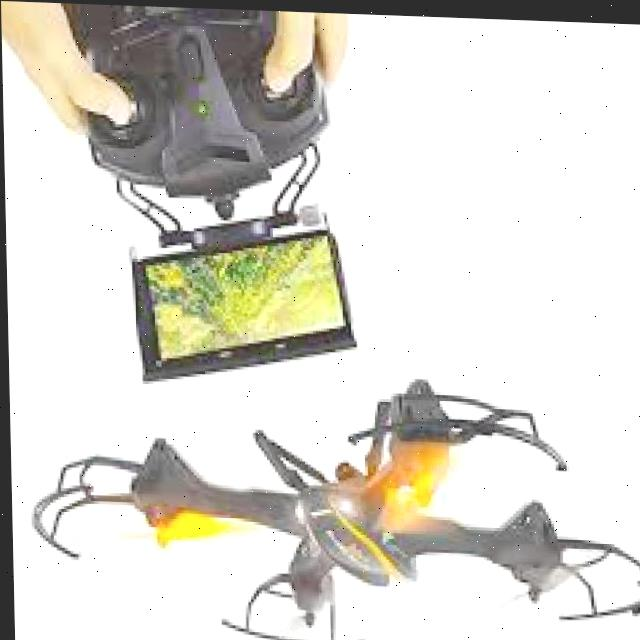drone: (6, 354, 640, 640)
